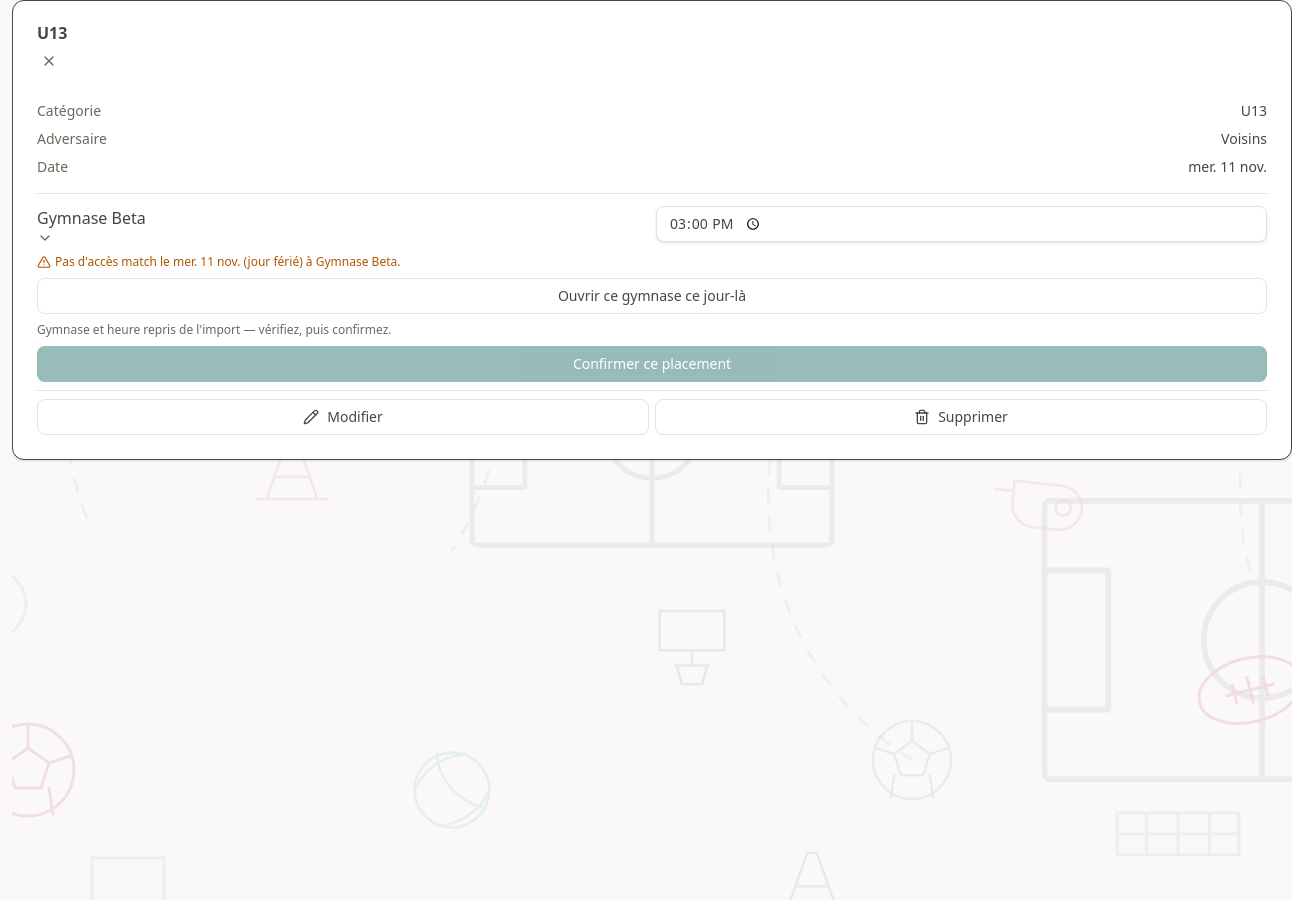
Scenario: PlacementPanel — le raccourci d'ouverture (D5) › choisir un autre gymnase autorisé fait disparaître le bouton (le refus suit la sélection)
Click the button "Gymnase Beta" at [91, 226], box [37,206,146,246]
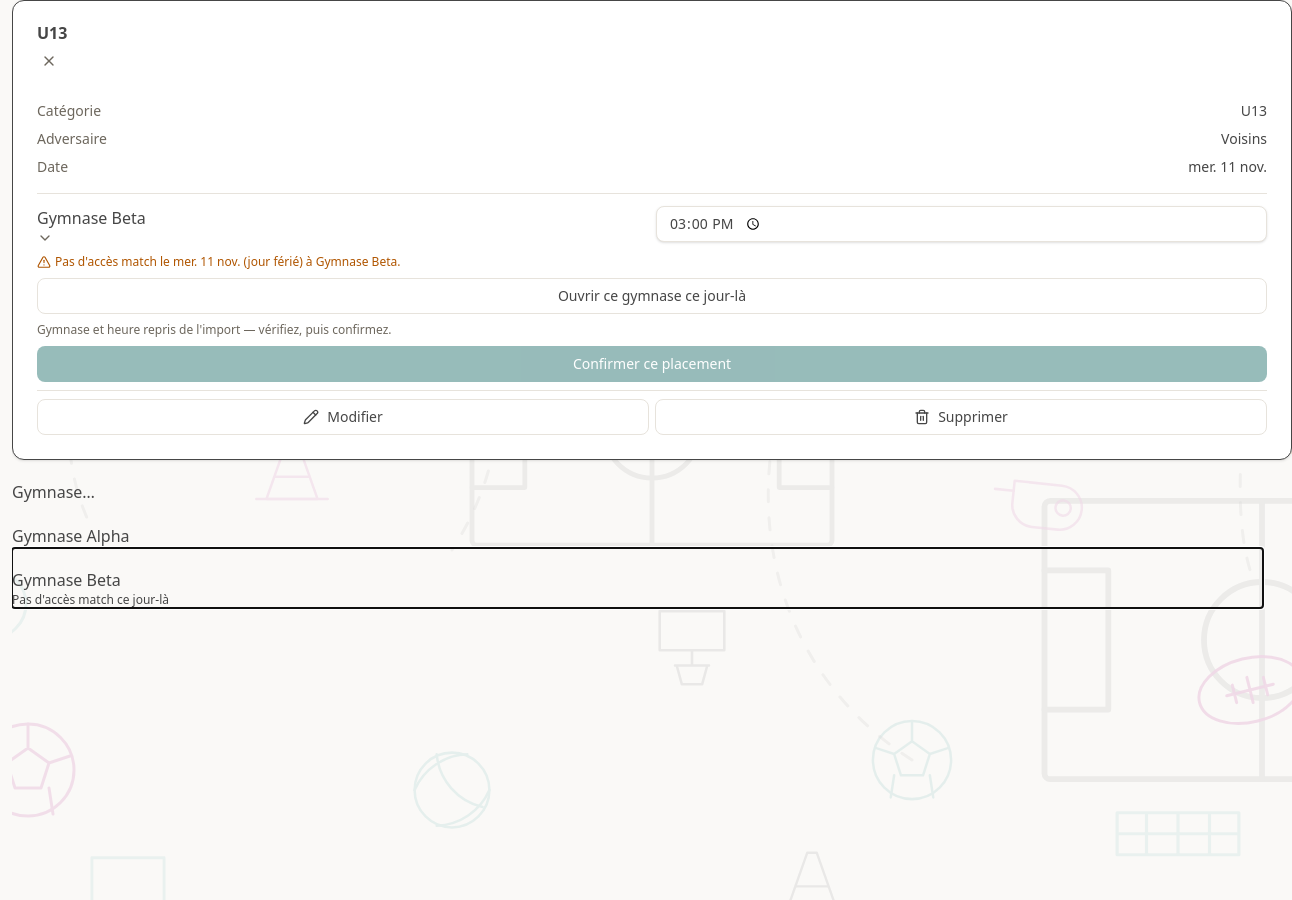
Click the option "Gymnase Alpha" at [71, 536], box [12,525,130,547]
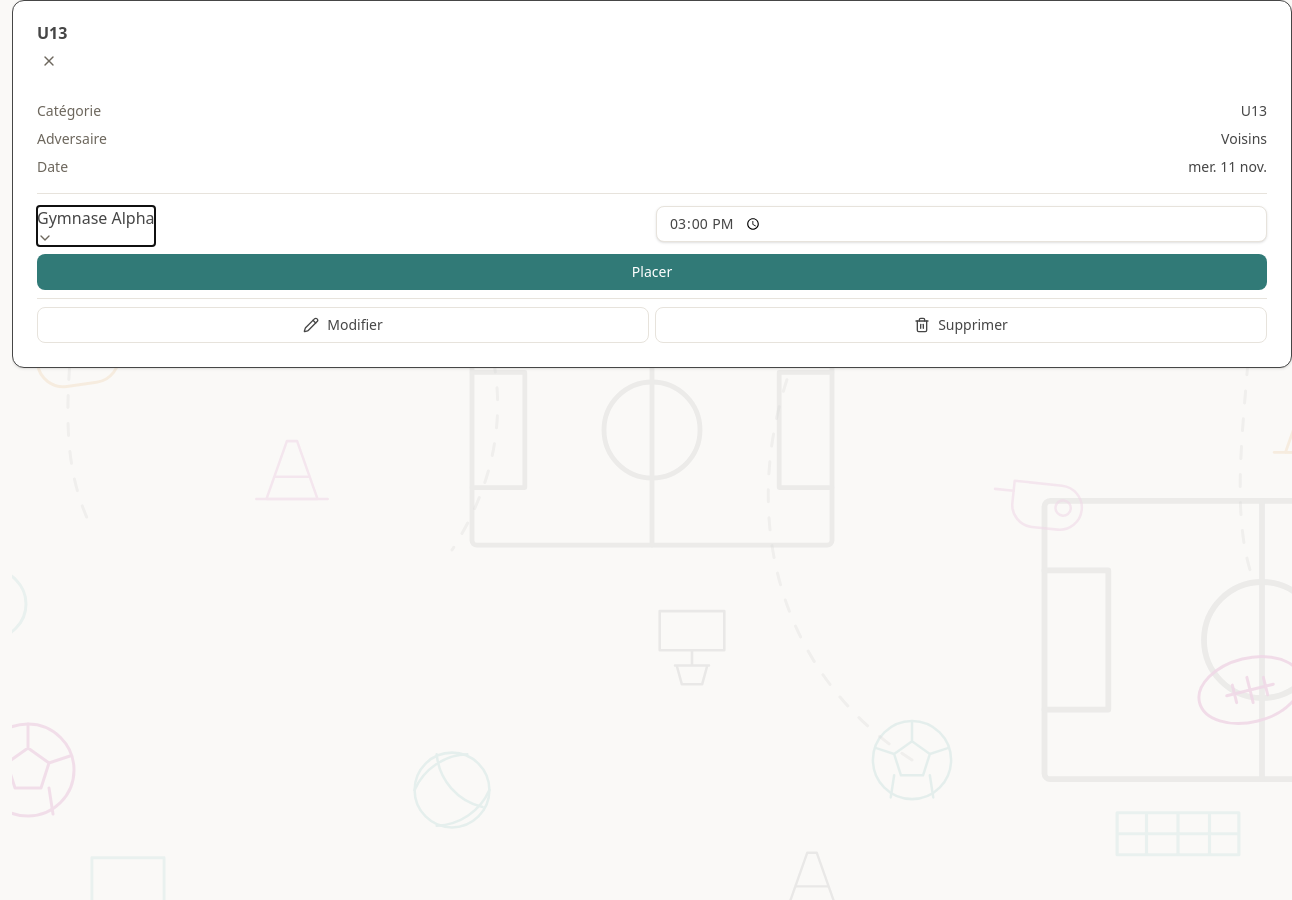
Result: the button "Ouvrir ce gymnase ce jour-là" is gone
